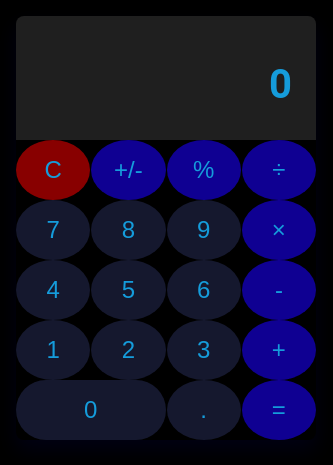
Calculator › should handle multi-digit input correctly
Click the button "1". click: (53, 350)
box: [16,320,90,380]
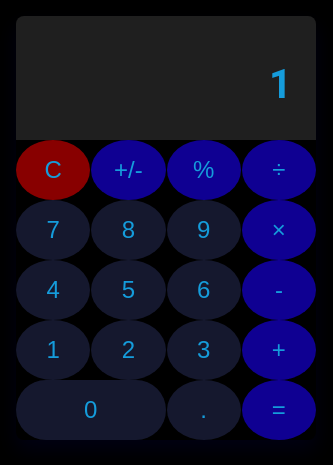
Click the button "2". click: (128, 350)
box: [91,320,166,380]
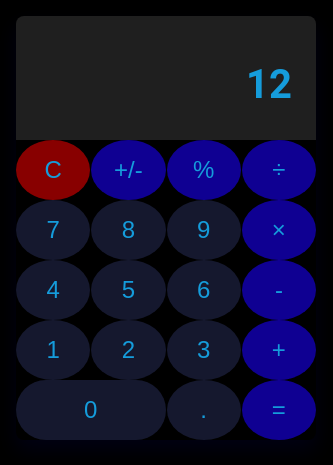
Click the button "3". click: (204, 350)
box: [166,320,241,380]
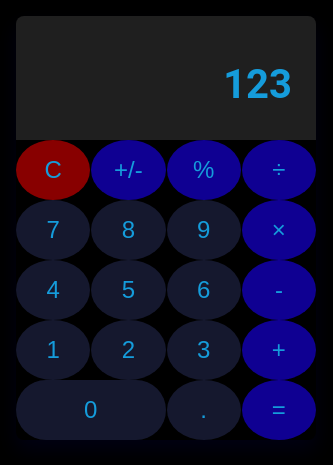
Expected: the text with test id "display" reads "123", [223,61,292,108]
